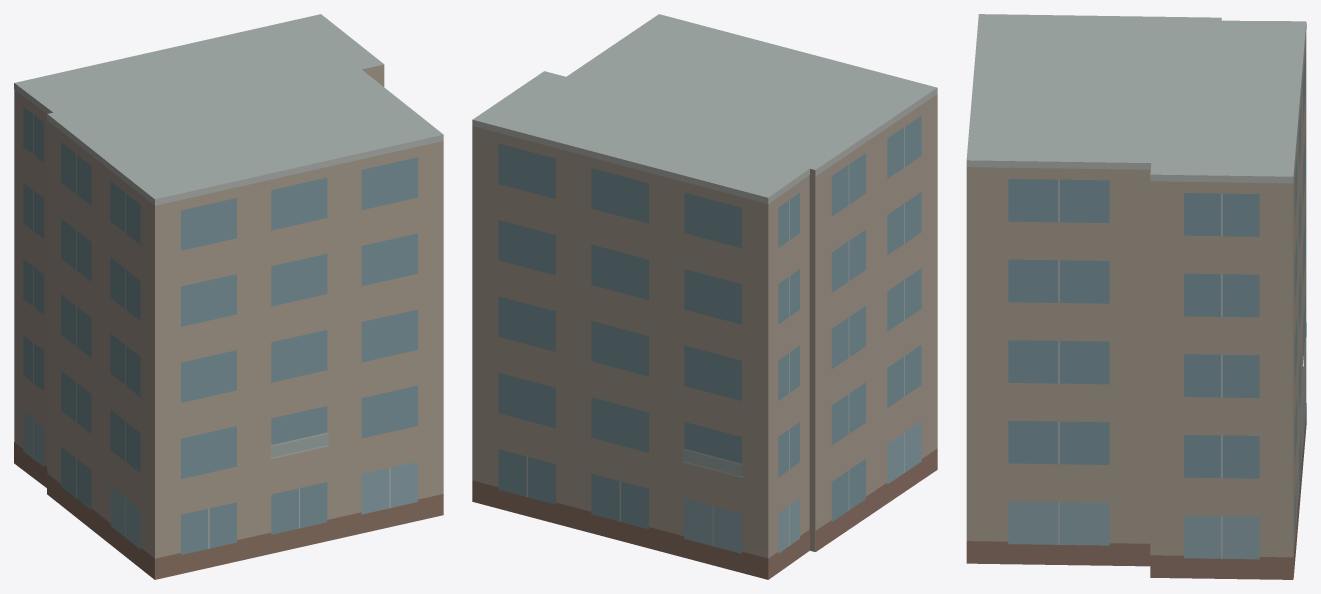
File: survey-upis-32879013.glb
3 renders of one model, left to right at view 1: azimuth 30°, elevation 25°; view 2: azimuth 150°, elevation 25°; view 3: azimuth 270°, elevation 25°, orthographic. The views are drawn at different scales.
Parts seen in each view (by area): view 1: survey-upis-32879013.tmp; view 2: survey-upis-32879013.tmp; view 3: survey-upis-32879013.tmp.
Boxes of the visible parts, x1,y1,x2,y2 form: survey-upis-32879013.tmp: (14,14,443,579); survey-upis-32879013.tmp: (472,14,937,579); survey-upis-32879013.tmp: (966,14,1306,579).
Bounding box in the file's own units: 12.78 × 14.75 × 11.28.
